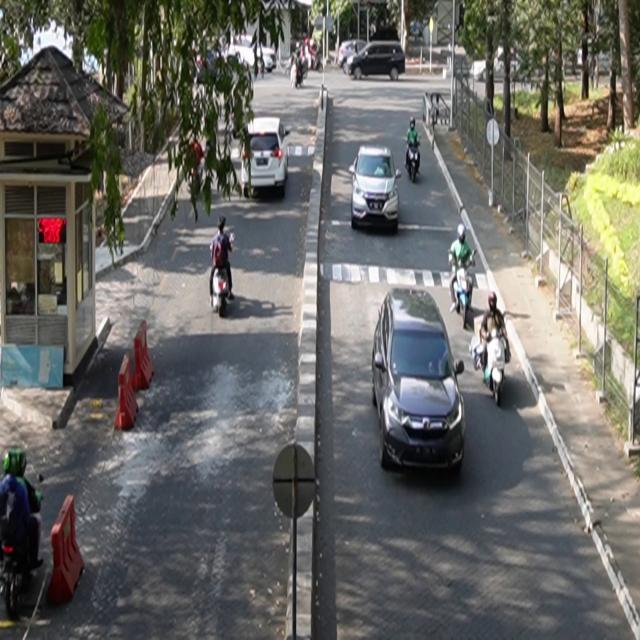car: (372, 287, 467, 475), (350, 146, 403, 233), (242, 117, 292, 198)
